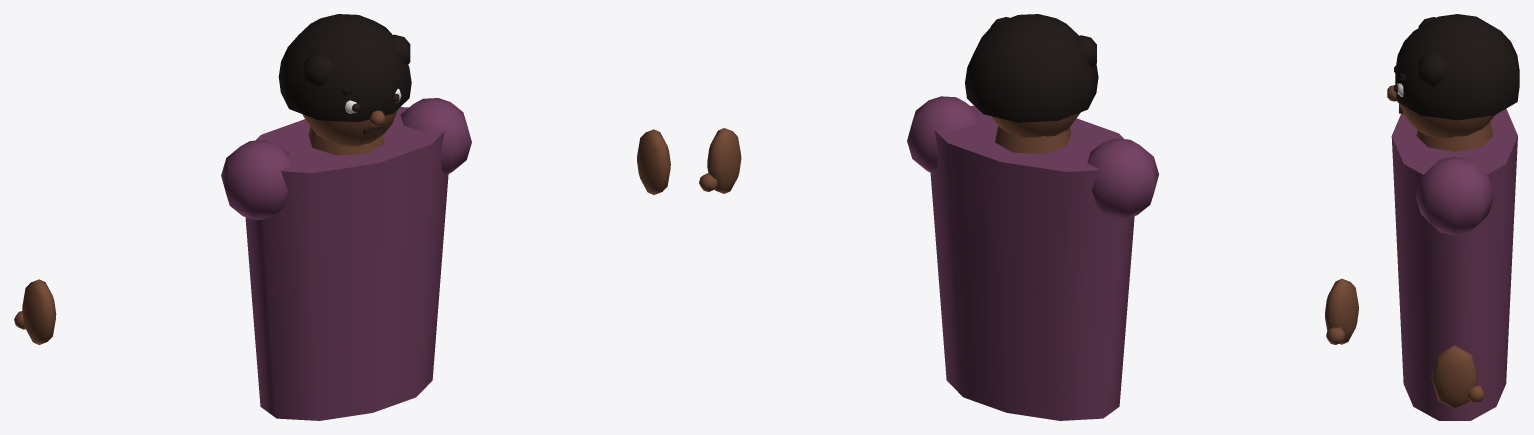
Rendered from avatar-plum.glb.
3 renders of one model, left to right at view 1: azimuth 30°, elevation 25°; view 2: azimuth 150°, elevation 25°; view 3: azimuth 270°, elevation 25°, orthographic. The views are drawn at different scales.
Visible parts, largest first — view 1: Torso, Hair, ShoulderR, ShoulderL, HandL, HandR, Skull, Collar, CurlR; view 2: Torso, Hair, ShoulderR, ShoulderL, HandL, HandR, Collar, Skull; view 3: Torso, Hair, ShoulderL, HandL, Skull, Collar, CurlL, HandL_Thumb.
Boxes of the visible parts, left/top/right/bottom form: Torso: left=245, top=107, right=448, bottom=420; Hair: left=278, top=14, right=411, bottom=121; ShoulderR: left=221, top=140, right=292, bottom=219; ShoulderL: left=400, top=98, right=471, bottom=174; HandL: left=637, top=129, right=670, bottom=194; HandR: left=22, top=279, right=56, bottom=344; Skull: left=302, top=109, right=397, bottom=146; Collar: left=308, top=126, right=384, bottom=155; CurlR: left=304, top=53, right=333, bottom=86; Torso: left=930, top=105, right=1134, bottom=420; Hair: left=965, top=14, right=1098, bottom=122; ShoulderR: left=1087, top=138, right=1158, bottom=218; ShoulderL: left=907, top=96, right=978, bottom=173; HandL: left=707, top=128, right=741, bottom=193; HandR: left=1325, top=278, right=1358, bottom=344; Collar: left=995, top=126, right=1071, bottom=154; Skull: left=992, top=112, right=1080, bottom=137; Torso: left=1391, top=108, right=1517, bottom=420; Hair: left=1395, top=14, right=1519, bottom=120; ShoulderL: left=1415, top=156, right=1494, bottom=235; HandL: left=1431, top=345, right=1478, bottom=409; Skull: left=1399, top=103, right=1494, bottom=137; Collar: left=1416, top=122, right=1493, bottom=151; CurlL: left=1418, top=53, right=1447, bottom=86; HandL_Thumb: left=1467, top=385, right=1484, bottom=402.
Bounding box in the file's own units: 1.37 × 0.764 × 0.2511.
